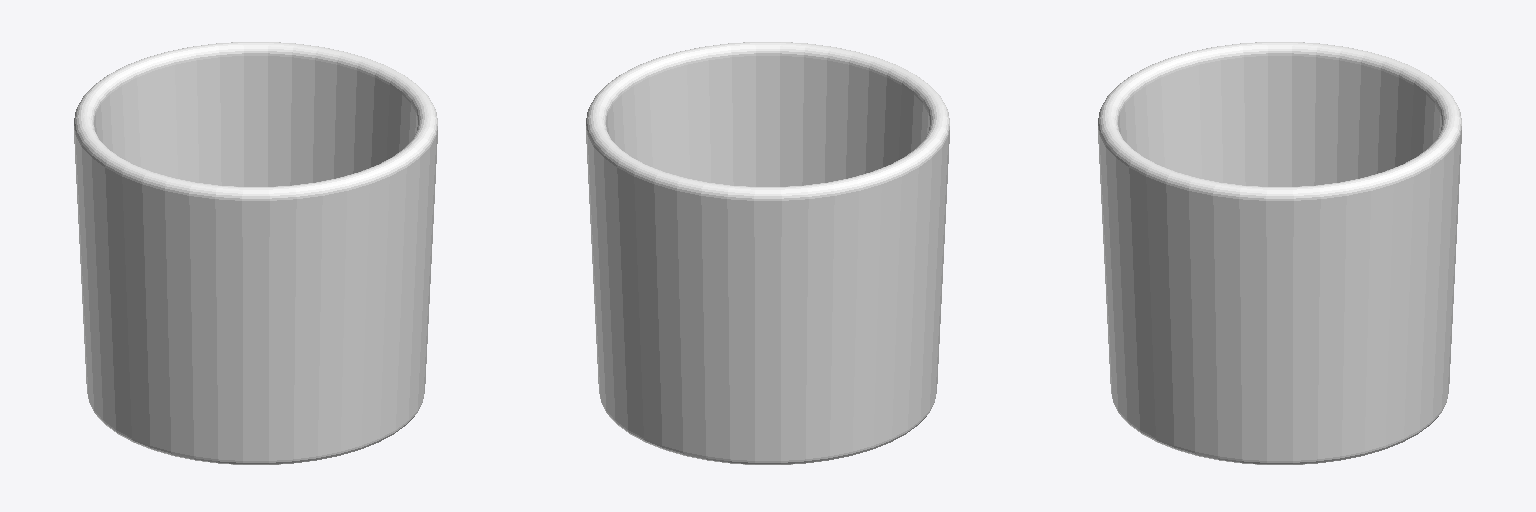
The model's file is bottle.obj.
3 renders of one model, left to right at view 1: azimuth 30°, elevation 25°; view 2: azimuth 150°, elevation 25°; view 3: azimuth 270°, elevation 25°, orthographic.
Visible parts, largest first — view 1: Cylinder_Cylinder.001; view 2: Cylinder_Cylinder.001; view 3: Cylinder_Cylinder.001.
Part boxes in pixels (x1,y1,x2,y2): Cylinder_Cylinder.001: (74, 42, 437, 464); Cylinder_Cylinder.001: (586, 42, 949, 464); Cylinder_Cylinder.001: (1098, 42, 1461, 464).
Size of the model in its own units: 1.4 by 1.2 by 1.41.